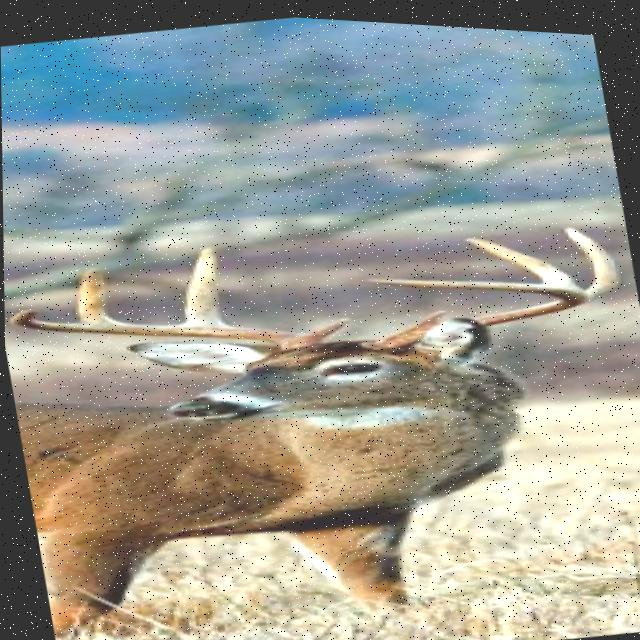L-F: (9, 309, 323, 349)
L-G1: (306, 312, 352, 335)
L-G2: (177, 244, 230, 323)
L-G3: (75, 266, 123, 321)
R-G1: (408, 304, 448, 323)
R-G2: (559, 218, 622, 293)
R-G3: (461, 230, 581, 280)
